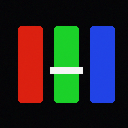3 line_h: (50, 67, 82, 73)
